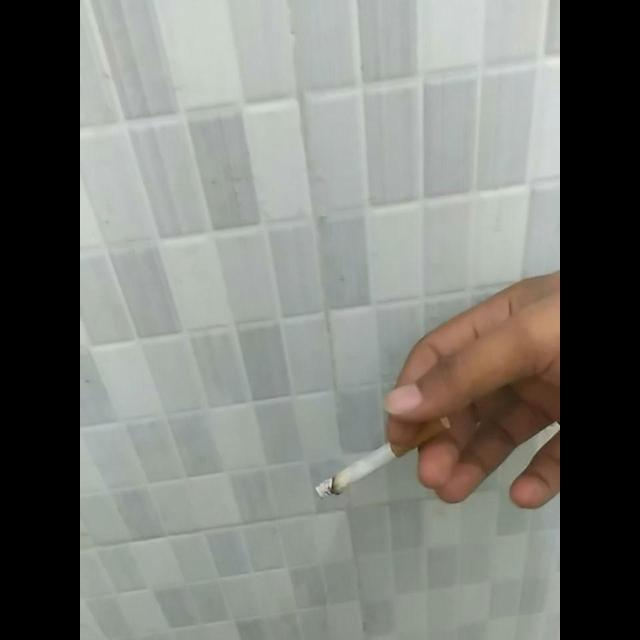rokok: (310, 408, 452, 514)
